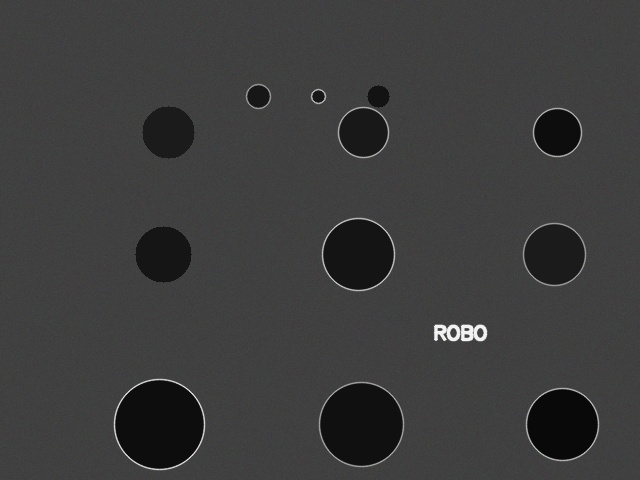hole: (114, 379, 204, 469), (319, 382, 403, 466), (322, 218, 394, 290), (526, 388, 598, 460), (523, 223, 585, 285), (135, 226, 191, 282), (142, 106, 194, 158), (338, 107, 388, 157), (533, 108, 581, 156), (246, 84, 270, 108), (367, 85, 389, 107), (311, 89, 325, 103)
